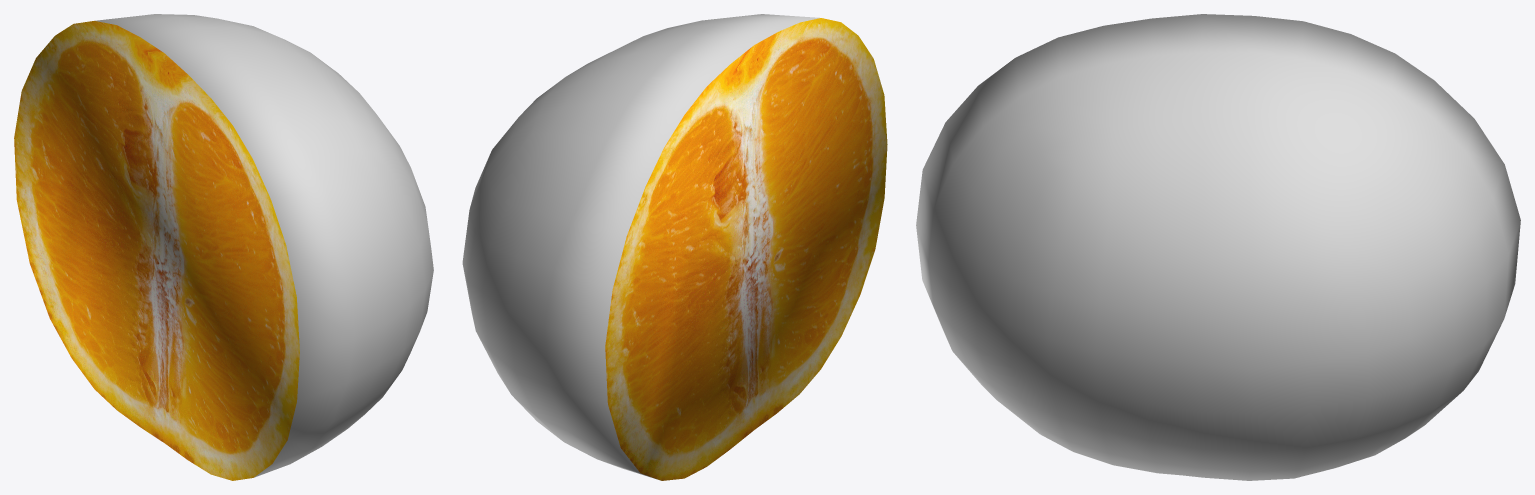
The model's file is Orange_05.fbx.
The picture shows the model from 3 angles, left to right: view 1: azimuth 30°, elevation 25°; view 2: azimuth 150°, elevation 25°; view 3: azimuth 270°, elevation 25°; orthographic projection. The views are drawn at different scales.
Parts seen in each view (by area): view 1: Mandarin Orange; view 2: Mandarin Orange; view 3: Mandarin Orange.
Part boxes in pixels (bbox=[...]): Mandarin Orange: bbox=[14, 14, 433, 480]; Mandarin Orange: bbox=[462, 14, 887, 480]; Mandarin Orange: bbox=[916, 14, 1520, 480].
Bounding box in the file's own units: 17.46 × 27.18 × 35.9.
Materials: 2 (1 with a texture image).
